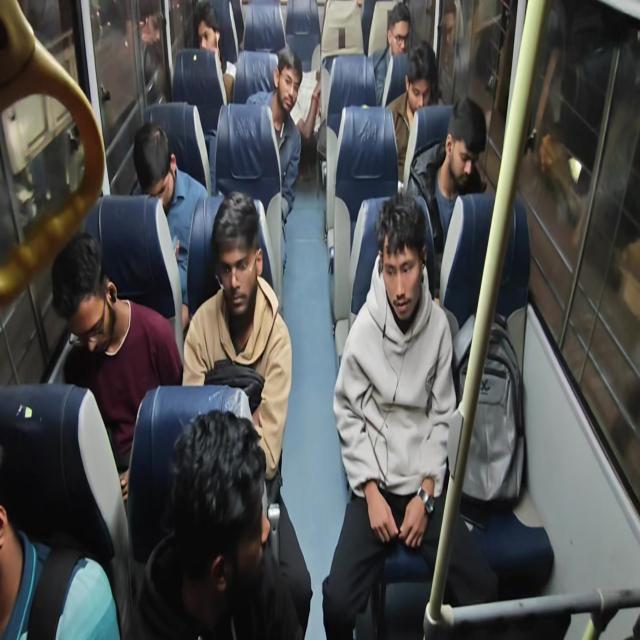person: (84, 375, 284, 640), (15, 242, 140, 396), (374, 212, 474, 375), (188, 179, 255, 331), (0, 468, 53, 606), (118, 127, 184, 213), (451, 98, 494, 192), (399, 41, 446, 123), (196, 6, 227, 61), (266, 58, 300, 104), (389, 6, 408, 46)
